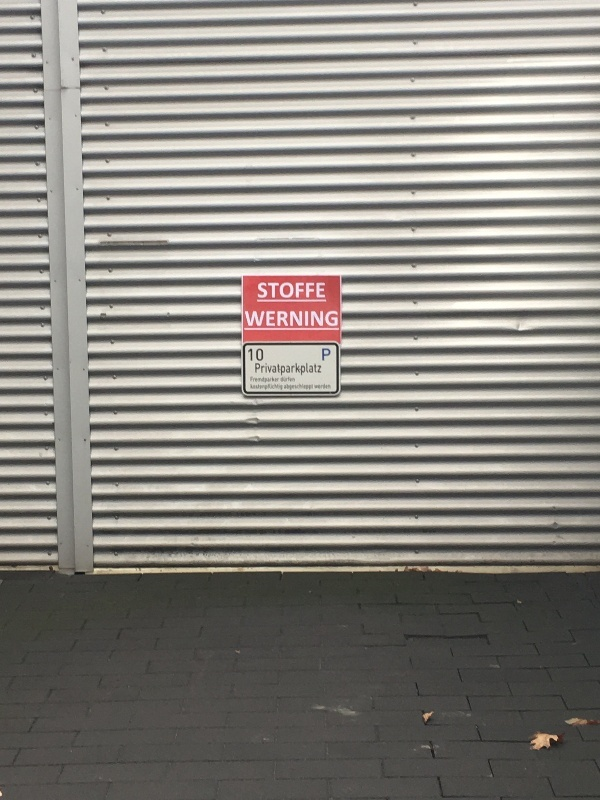text: (273, 282, 288, 299), (289, 282, 304, 299), (305, 282, 320, 299), (257, 311, 272, 327), (273, 311, 288, 327), (289, 311, 304, 327), (305, 311, 320, 327), (321, 311, 336, 327), (258, 282, 272, 299), (257, 363, 272, 376), (273, 363, 288, 376), (289, 363, 304, 376), (305, 363, 320, 376), (322, 348, 336, 361), (245, 311, 256, 327), (257, 376, 272, 384), (257, 384, 272, 391), (289, 384, 304, 391), (249, 349, 256, 362), (257, 349, 264, 362), (321, 282, 326, 299), (273, 384, 283, 391), (321, 383, 331, 390), (273, 376, 280, 384), (305, 384, 313, 391), (281, 377, 288, 383), (251, 376, 256, 384), (289, 377, 295, 383), (251, 384, 256, 391), (315, 383, 320, 390), (284, 384, 288, 391), (337, 311, 338, 327), (255, 363, 256, 376), (321, 363, 322, 376)
